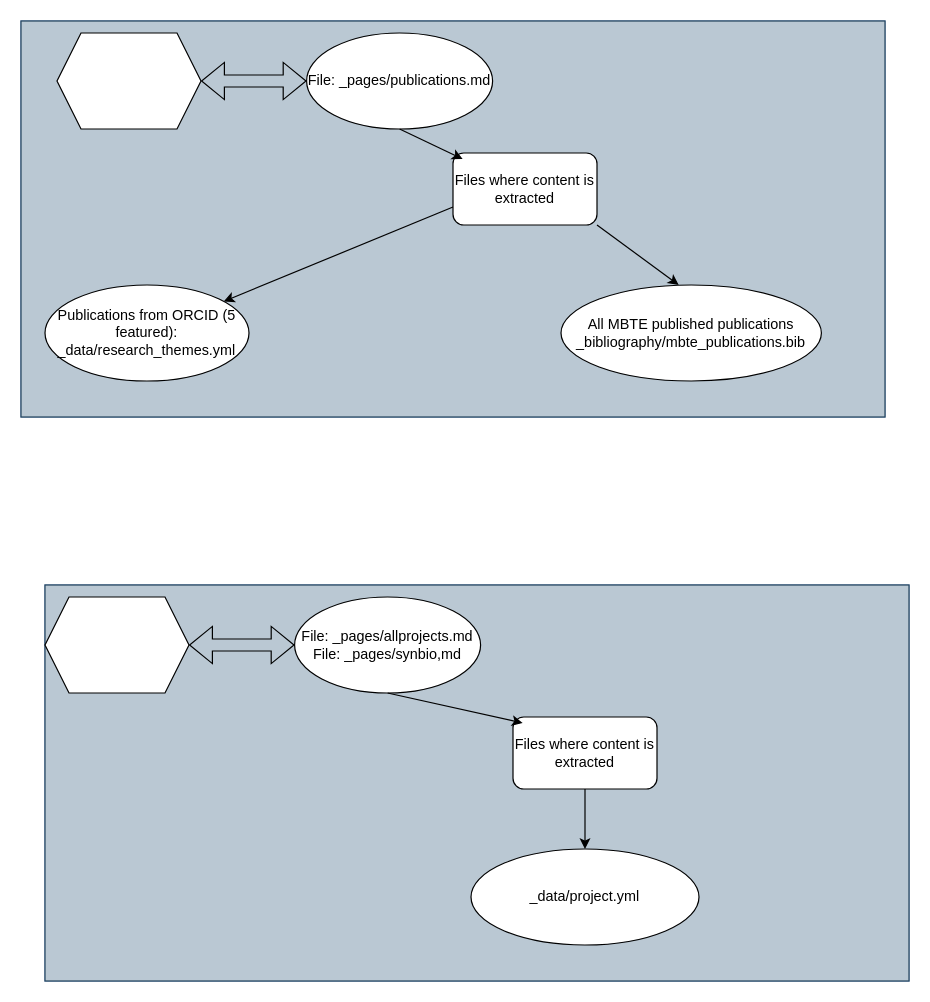
Image size: 930x1002. Some labels were removed from this diagram. The shapes that lost their labels are listed below. From the top down, each one's centre as x and y in pixels, then its label:
At point 128,80: "Done / past publications Research Group".
At point 116,644: "Ongoing projects Research Group & Research Incubator".
